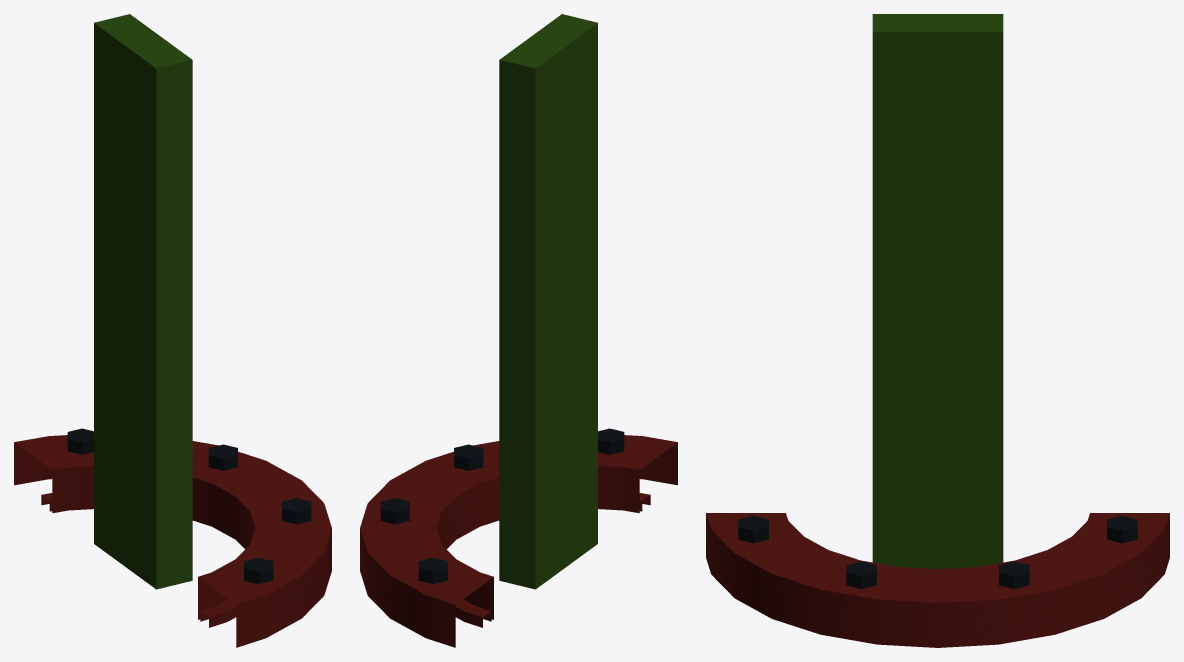
Rendered from cell_82.obj.
The picture shows the model from 3 angles, left to right: view 1: azimuth 30°, elevation 25°; view 2: azimuth 150°, elevation 25°; view 3: azimuth 270°, elevation 25°; orthographic projection. The views are drawn at different scales.
Visible parts, largest first — view 1: cell_82; view 2: cell_82; view 3: cell_82.
Part boxes in pixels (x1=…): cell_82: x1=14, y1=14, x2=331, y2=647; cell_82: x1=360, y1=14, x2=677, y2=647; cell_82: x1=706, y1=14, x2=1169, y2=647.
Bounding box in the file's own units: 0.3425 × 0.965 × 0.7458.
